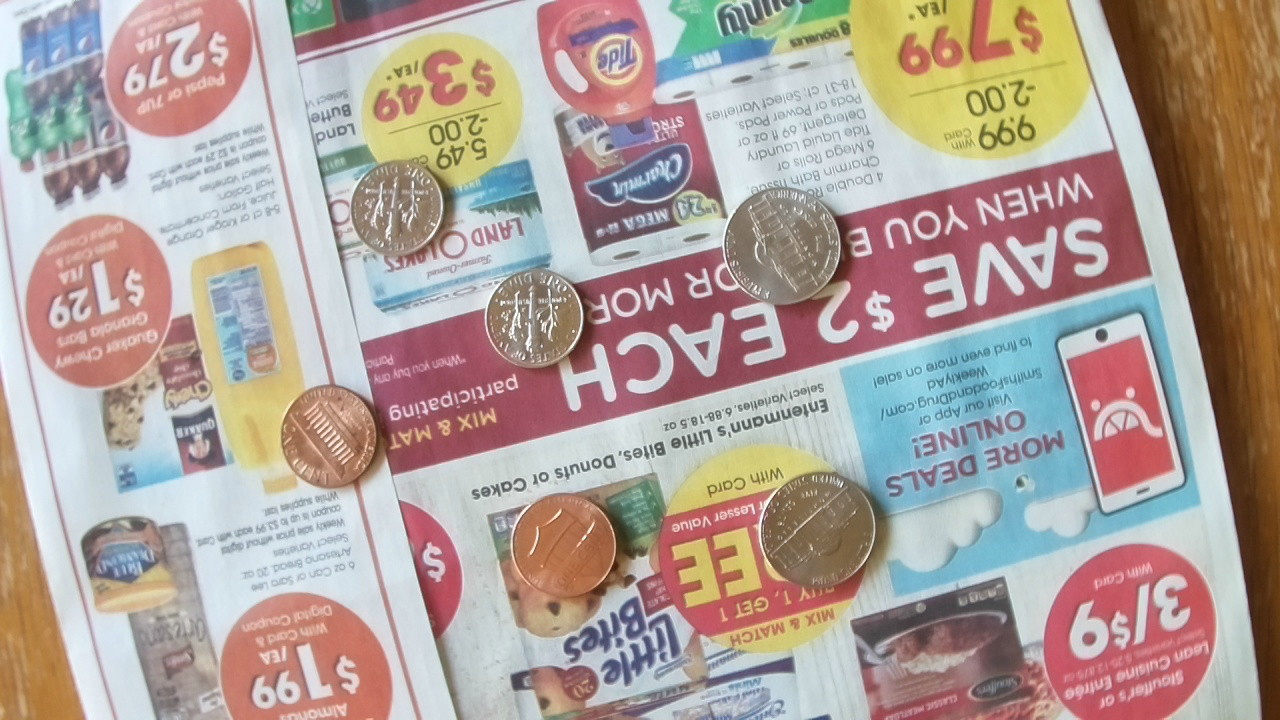dime: (483, 269, 582, 368), (350, 161, 445, 257)
nickel: (722, 186, 841, 305), (759, 471, 876, 588)
penny: (511, 491, 616, 596), (281, 386, 380, 490)
